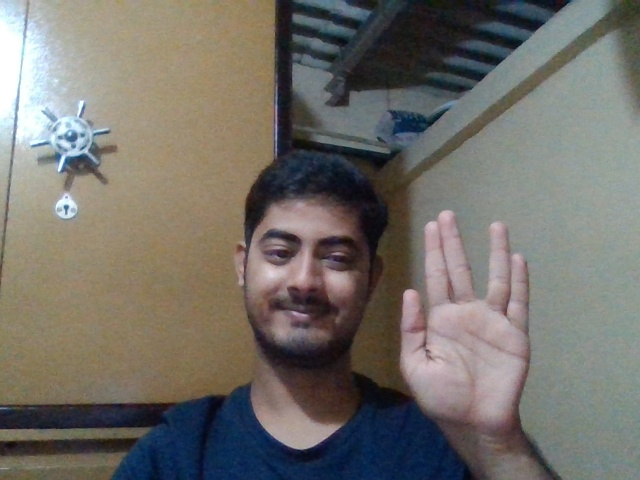LiveLong: (398, 209, 530, 429)
